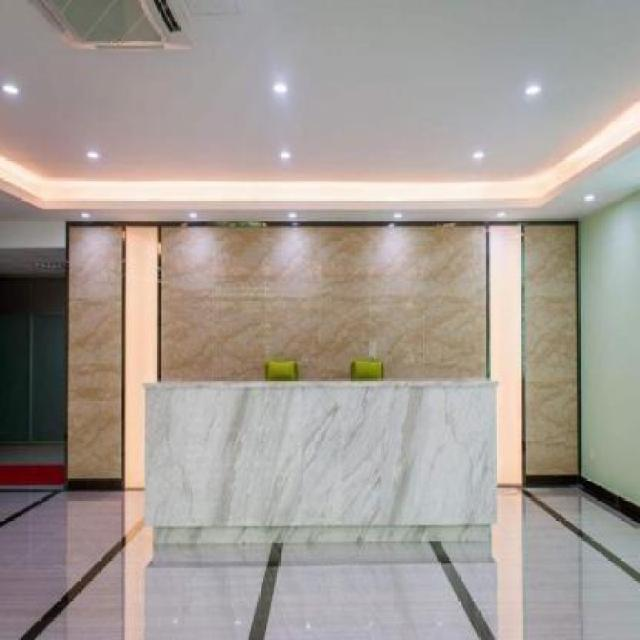frontdesk: (137, 348, 502, 579)
